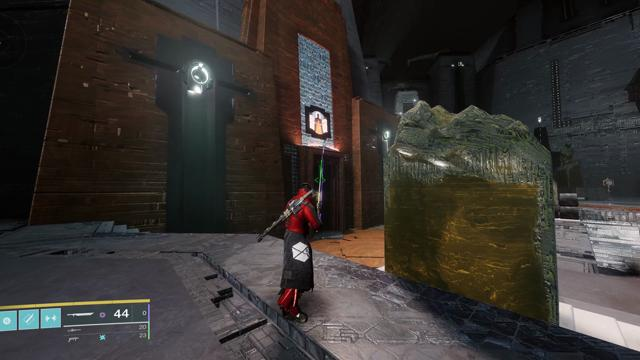worship: (310, 112, 327, 134)
